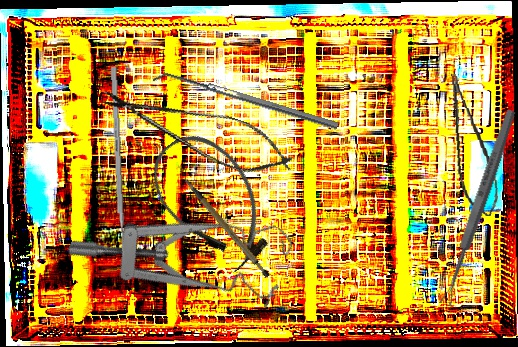Cannula: (135, 118, 289, 285)
Micro Scissor: (92, 74, 303, 188), (446, 70, 502, 219)
Pusher: (109, 66, 128, 265)
Scalpel Handle: (182, 165, 272, 288)
Spatula Surgical: (152, 67, 339, 137)
Speculum: (66, 146, 303, 347)
Surgical Spoon: (438, 108, 518, 307)
